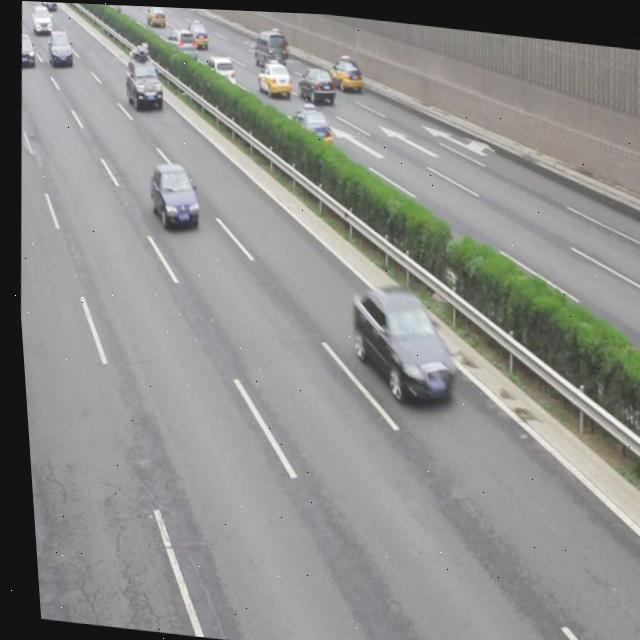car: (342, 276, 453, 398), (144, 157, 200, 232), (122, 45, 165, 114), (282, 102, 330, 149), (293, 60, 335, 102), (253, 56, 291, 97), (324, 53, 362, 92), (199, 52, 236, 92)
truck: (249, 24, 288, 70)
